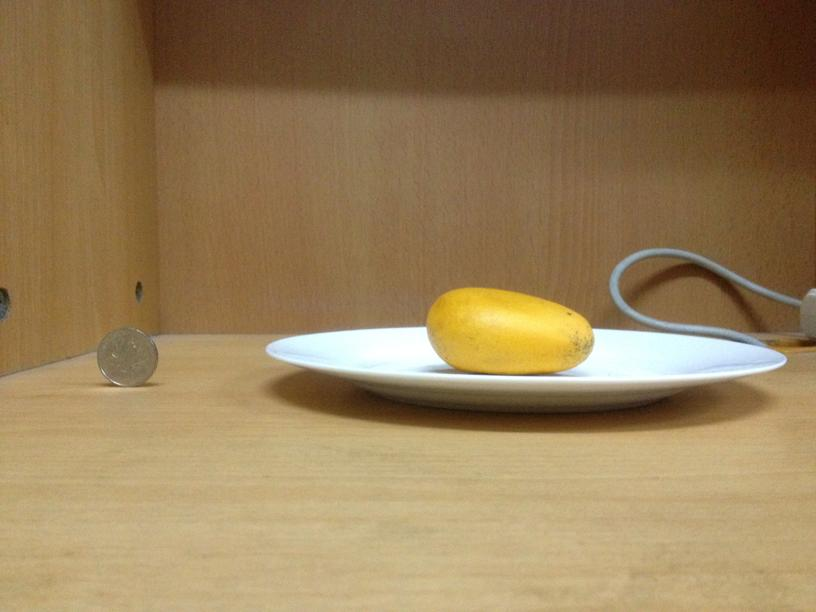coin: (97, 323, 158, 386)
mango: (427, 283, 594, 374)
